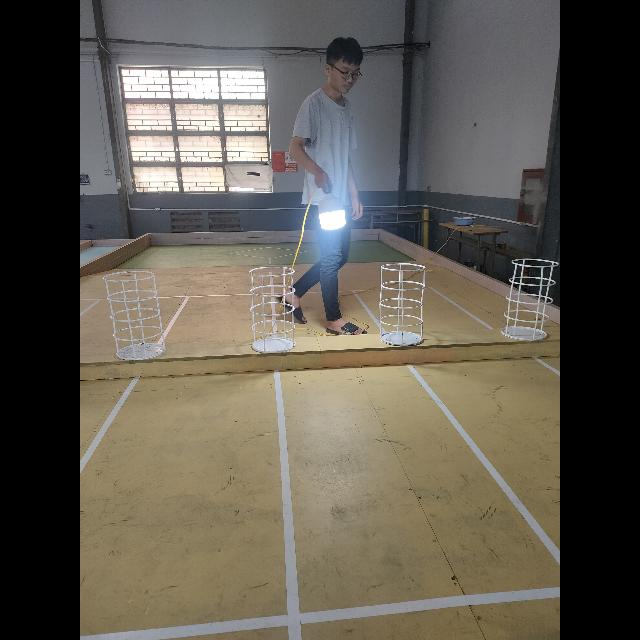S: (102, 267, 168, 364), (499, 254, 560, 344), (248, 263, 298, 357), (377, 260, 428, 349)
